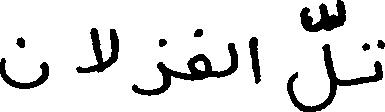X: (289, 0, 334, 111), (0, 32, 46, 93), (134, 34, 167, 100), (79, 23, 117, 77), (189, 24, 209, 85), (375, 35, 384, 86), (251, 32, 258, 88), (229, 38, 236, 79)
